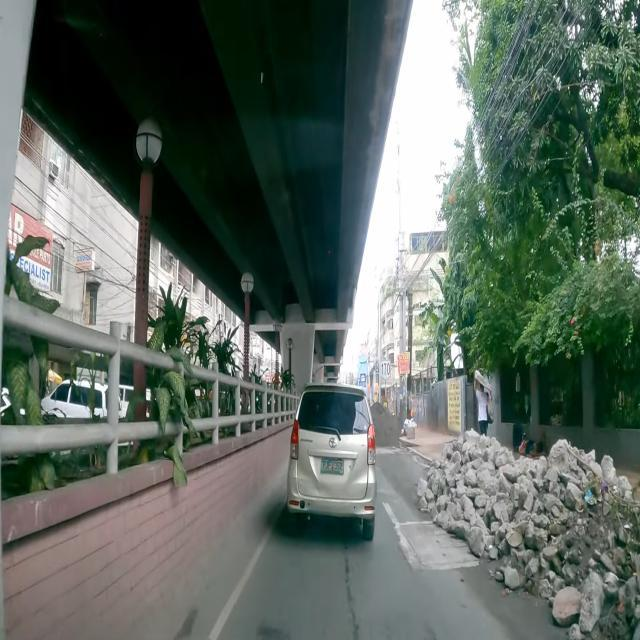car: (286, 384, 376, 542), (41, 378, 120, 436)
